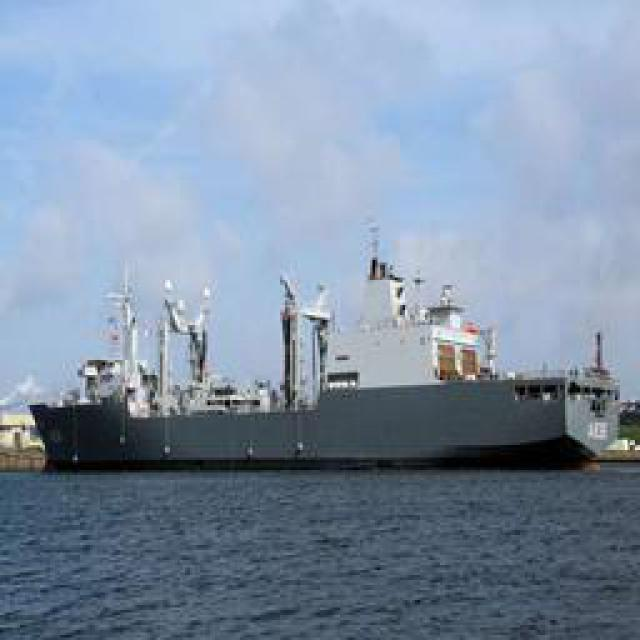Ship: (25, 255, 623, 473)
